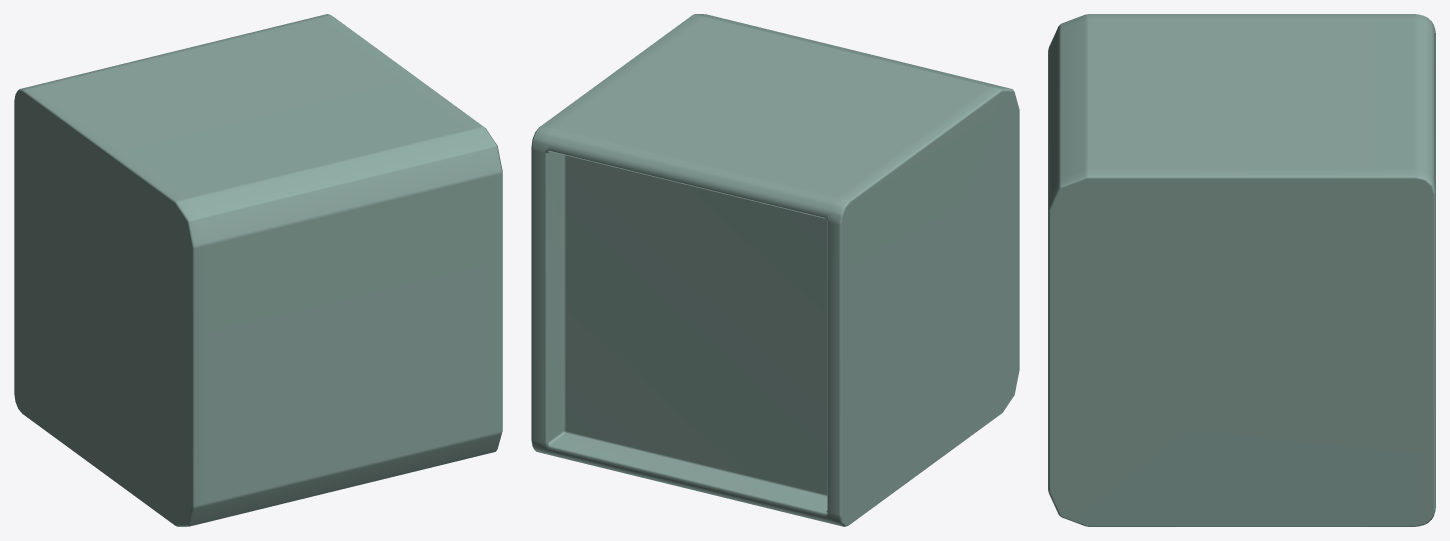
The model's file is reloj de mesa.fbx.
3 views of the same model, side by side, from view 1: azimuth 30°, elevation 25°; view 2: azimuth 150°, elevation 25°; view 3: azimuth 270°, elevation 25° (orthographic). The views are drawn at different scales.
Parts seen in each view (by area): view 1: pCube1; view 2: pCube1; view 3: pCube1.
Boxes of the visible parts, x1,y1,x2,y2 form: pCube1: (14,14,502,526); pCube1: (531,14,1019,526); pCube1: (1048,14,1435,526).
Bounding box in the file's own units: 14.67 × 14.67 × 14.67.
